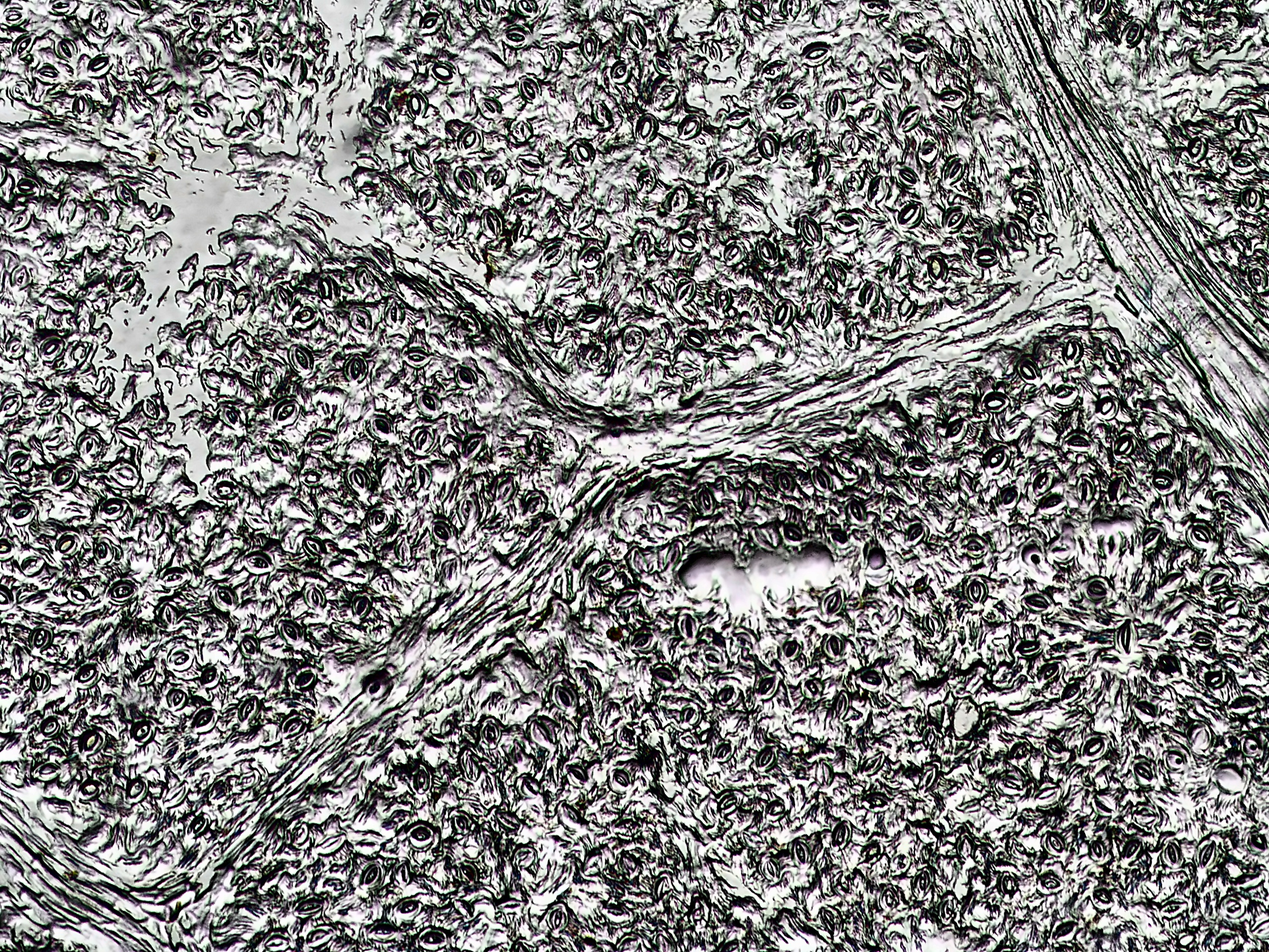stomata: (1113, 617, 1138, 657), (529, 715, 557, 748), (75, 429, 103, 462), (288, 343, 314, 378), (981, 445, 1011, 475), (407, 820, 436, 851), (769, 299, 796, 331), (417, 926, 450, 952), (687, 895, 710, 932), (902, 33, 932, 61), (144, 67, 174, 95), (676, 608, 700, 643), (303, 428, 338, 452), (578, 239, 605, 270), (108, 460, 139, 487), (479, 208, 505, 240), (572, 306, 604, 332), (90, 4, 114, 38), (706, 158, 734, 187), (72, 662, 102, 689), (209, 586, 239, 613), (941, 206, 970, 233), (1015, 356, 1042, 385), (556, 803, 583, 832), (52, 463, 79, 492), (218, 404, 247, 431), (910, 866, 933, 900), (342, 354, 368, 384), (553, 684, 579, 714), (393, 896, 423, 922), (345, 467, 371, 497), (801, 41, 832, 66), (1062, 429, 1094, 453), (97, 497, 129, 521), (158, 566, 190, 590), (366, 106, 394, 133), (280, 713, 308, 740), (86, 52, 112, 81), (292, 303, 321, 329), (274, 399, 300, 428), (755, 238, 780, 268), (370, 414, 395, 444), (1112, 432, 1137, 462), (1120, 18, 1144, 49), (800, 215, 823, 247), (242, 551, 274, 574), (253, 364, 280, 391), (358, 862, 385, 889), (129, 720, 156, 747), (897, 202, 923, 230), (306, 923, 334, 949), (185, 812, 211, 840), (28, 626, 54, 654), (163, 780, 189, 808), (772, 94, 801, 119), (1185, 524, 1214, 549), (1086, 575, 1111, 604), (316, 276, 340, 306), (942, 155, 966, 185), (1234, 109, 1258, 139), (106, 579, 136, 603), (757, 132, 780, 163), (820, 905, 843, 936), (570, 139, 596, 166), (38, 336, 65, 362), (408, 147, 433, 175), (366, 923, 401, 943), (8, 500, 36, 525), (56, 531, 81, 559), (635, 114, 659, 143), (632, 230, 656, 259), (981, 391, 1010, 415), (1188, 722, 1212, 751), (156, 600, 180, 629), (937, 892, 958, 925), (313, 833, 346, 854), (456, 495, 477, 528), (383, 298, 405, 329), (830, 820, 852, 851), (457, 126, 483, 152), (78, 729, 104, 755), (606, 768, 631, 795), (191, 708, 218, 733), (278, 619, 303, 646), (302, 582, 327, 609), (621, 325, 645, 353), (1197, 838, 1218, 870), (9, 262, 33, 290), (454, 166, 477, 195), (845, 499, 868, 528), (1049, 921, 1078, 944), (92, 536, 115, 565), (237, 695, 260, 724), (495, 476, 518, 505), (259, 43, 281, 73), (826, 88, 846, 121), (762, 60, 792, 82), (664, 538, 684, 571), (459, 748, 479, 781), (956, 833, 977, 864), (918, 764, 939, 795), (31, 761, 62, 782), (655, 84, 681, 109), (898, 106, 923, 132), (417, 390, 442, 416), (1080, 734, 1105, 760), (754, 674, 779, 700), (7, 450, 33, 475), (348, 307, 372, 334), (961, 534, 988, 558), (861, 750, 885, 777), (923, 610, 946, 638), (33, 392, 61, 415), (1075, 474, 1095, 506), (208, 480, 240, 500), (407, 90, 429, 119), (1050, 385, 1079, 407), (546, 905, 568, 934), (825, 258, 846, 288), (677, 115, 702, 140), (875, 66, 900, 91), (540, 243, 565, 268), (944, 418, 968, 444), (809, 466, 833, 492), (12, 32, 35, 59), (519, 76, 542, 103), (833, 210, 860, 233), (1241, 186, 1264, 213), (822, 633, 845, 660), (628, 629, 655, 652), (126, 777, 149, 804), (811, 298, 831, 329), (145, 510, 165, 541), (517, 154, 545, 176), (403, 347, 431, 369), (668, 185, 690, 213), (1062, 337, 1084, 365), (966, 579, 988, 607), (879, 884, 901, 912), (480, 721, 502, 749), (859, 281, 880, 310), (1203, 567, 1232, 588), (1163, 841, 1184, 870), (1021, 594, 1053, 613), (1011, 639, 1043, 658), (189, 8, 213, 33), (890, 255, 910, 285), (928, 253, 948, 283), (1095, 396, 1120, 420), (1219, 894, 1244, 918), (1132, 804, 1157, 828), (814, 759, 834, 789), (861, 792, 891, 812), (859, 840, 883, 865), (564, 764, 588, 789), (7, 209, 32, 233), (52, 37, 78, 60), (503, 26, 529, 49), (484, 164, 507, 190), (430, 62, 457, 84), (672, 231, 699, 253), (115, 265, 137, 292), (894, 166, 921, 188), (755, 745, 777, 772), (367, 508, 389, 535), (950, 35, 971, 63), (273, 284, 294, 312), (1229, 154, 1257, 175), (1036, 873, 1064, 894), (868, 176, 888, 205), (696, 487, 716, 516), (791, 839, 811, 868), (297, 466, 326, 486), (512, 846, 536, 870), (600, 905, 632, 923), (418, 12, 443, 35), (430, 520, 453, 545), (462, 434, 485, 459), (265, 438, 288, 463), (590, 101, 612, 127), (684, 327, 710, 349), (998, 774, 1024, 796), (168, 649, 194, 671), (511, 117, 533, 143), (675, 279, 696, 306), (494, 810, 521, 831), (8, 79, 32, 102), (1152, 472, 1176, 495), (1092, 794, 1116, 817), (800, 678, 823, 702), (578, 34, 597, 63), (627, 20, 646, 49), (73, 93, 95, 118), (116, 182, 138, 207), (20, 555, 45, 577), (166, 687, 188, 712), (351, 594, 373, 619), (196, 50, 222, 71), (724, 241, 745, 267), (790, 129, 811, 155), (239, 634, 260, 660), (412, 464, 433, 490), (290, 54, 307, 86), (2, 7, 29, 27), (412, 765, 430, 795), (543, 43, 562, 71), (903, 457, 931, 476), (824, 589, 843, 617), (1021, 544, 1044, 567), (1164, 750, 1187, 773), (36, 63, 60, 85), (478, 98, 502, 120), (611, 61, 633, 85), (226, 336, 248, 360), (510, 220, 532, 244), (1122, 839, 1144, 863), (189, 102, 214, 123), (543, 312, 564, 337), (1108, 477, 1129, 502), (651, 667, 676, 688), (522, 496, 543, 521), (1003, 219, 1023, 245), (557, 275, 583, 295), (1040, 494, 1066, 514), (31, 669, 51, 695), (186, 330, 205, 357), (1157, 654, 1184, 673), (66, 585, 93, 604), (58, 195, 77, 222), (1158, 901, 1188, 918), (1230, 233, 1252, 256), (1091, 887, 1114, 909), (200, 665, 222, 688), (134, 664, 157, 686), (295, 670, 318, 692), (0, 393, 22, 416), (1231, 696, 1259, 714), (999, 871, 1017, 899), (890, 851, 911, 875), (515, 776, 539, 797), (717, 793, 741, 814), (898, 297, 918, 322), (974, 248, 999, 268), (393, 862, 413, 887), (919, 138, 938, 164), (1189, 136, 1208, 162), (958, 468, 975, 497), (295, 897, 324, 914), (39, 716, 61, 738), (652, 53, 673, 76), (841, 134, 862, 157), (745, 0, 766, 23), (456, 366, 477, 389), (1032, 472, 1053, 495), (1039, 662, 1060, 685), (458, 863, 478, 887), (395, 536, 411, 566), (813, 155, 830, 183), (204, 278, 223, 303), (1242, 734, 1261, 759), (512, 187, 538, 205), (857, 105, 879, 126), (234, 18, 254, 41), (636, 169, 656, 192), (1248, 268, 1268, 291), (1134, 762, 1154, 785), (940, 91, 964, 110), (449, 212, 465, 240), (835, 689, 849, 721), (844, 321, 861, 347), (1220, 595, 1241, 616), (1142, 527, 1162, 549), (775, 471, 795, 493), (1134, 703, 1156, 723), (1046, 832, 1066, 854), (679, 703, 699, 725), (713, 741, 733, 763), (79, 779, 99, 801), (5, 337, 25, 359), (714, 288, 733, 311), (418, 189, 437, 212), (761, 860, 780, 883), (614, 591, 638, 609), (242, 512, 269, 528), (921, 726, 938, 751), (265, 935, 290, 952), (1204, 670, 1226, 689), (302, 537, 324, 556), (16, 178, 39, 196), (726, 110, 750, 127), (1034, 787, 1059, 803), (782, 641, 802, 661), (717, 687, 737, 707), (654, 876, 670, 901), (860, 670, 881, 689), (1088, 840, 1106, 862), (142, 397, 159, 420), (704, 41, 721, 64), (1193, 631, 1214, 649), (1063, 683, 1081, 704), (1045, 739, 1066, 757), (702, 651, 724, 668), (416, 430, 433, 452), (907, 522, 923, 545), (828, 528, 847, 546), (783, 522, 802, 540), (452, 816, 470, 835), (1002, 487, 1017, 508)
